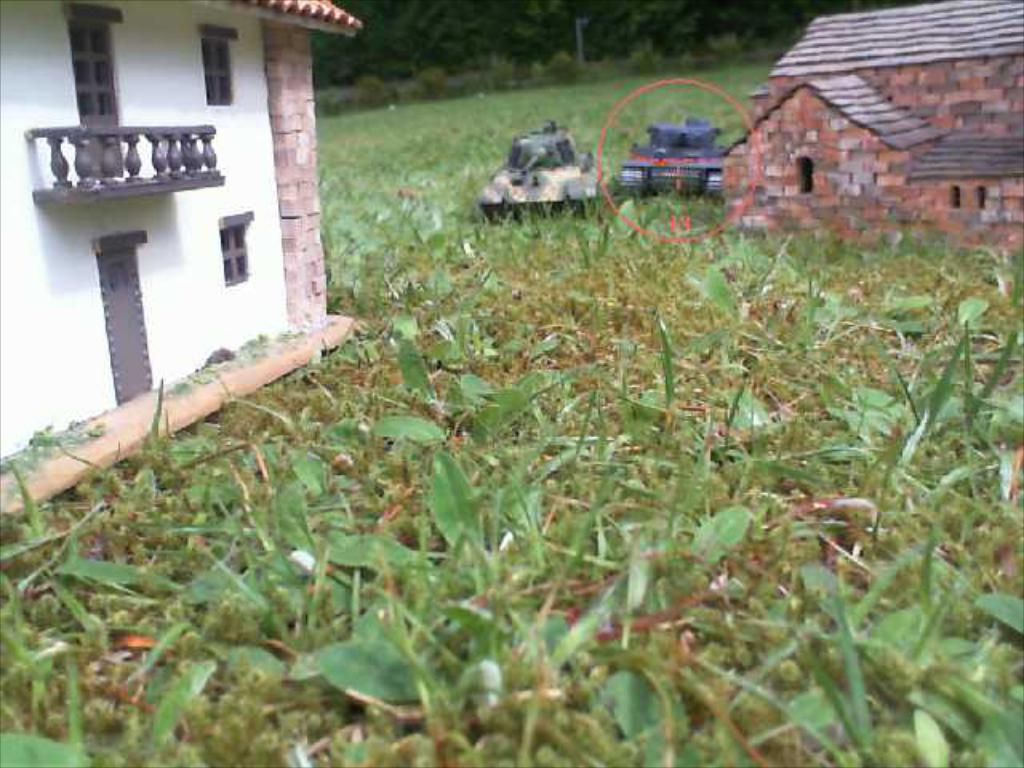Tank: (482, 118, 608, 224), (611, 118, 730, 200)
